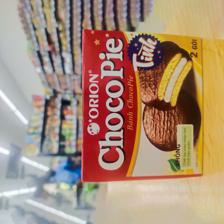Chocopie: (78, 25, 206, 185)
